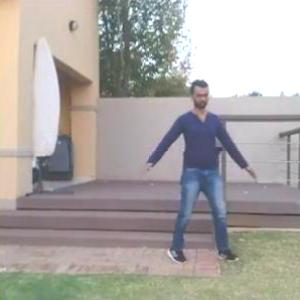land: (141, 86, 252, 268)
